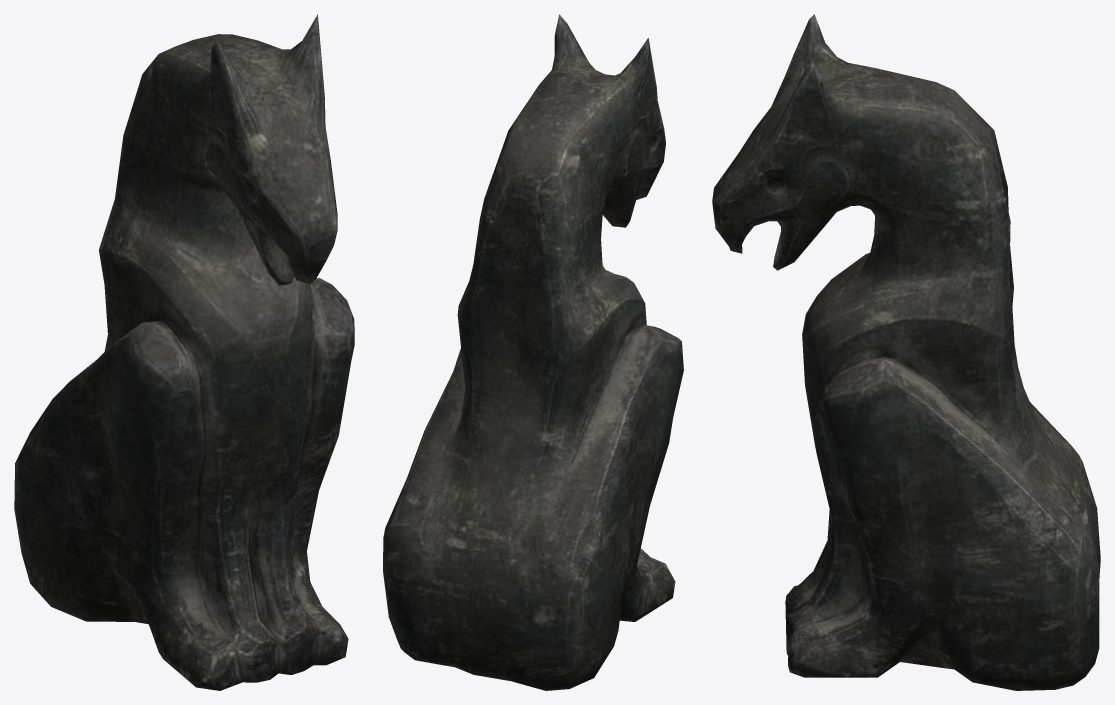
The model's file is dekor_heykel.glb.
The picture shows the model from 3 angles, left to right: view 1: azimuth 30°, elevation 25°; view 2: azimuth 150°, elevation 25°; view 3: azimuth 270°, elevation 25°; orthographic projection. The views are drawn at different scales.
Parts seen in each view (by area): view 1: staue1_staue1_0; view 2: staue1_staue1_0; view 3: staue1_staue1_0.
Boxes of the visible parts, <box> form: staue1_staue1_0: <box>14,14,354,690</box>; staue1_staue1_0: <box>383,14,683,690</box>; staue1_staue1_0: <box>712,14,1100,690</box>.
Size of the model in its own units: 3.02 by 7.79 by 4.49.
1 material, 1 textured.
